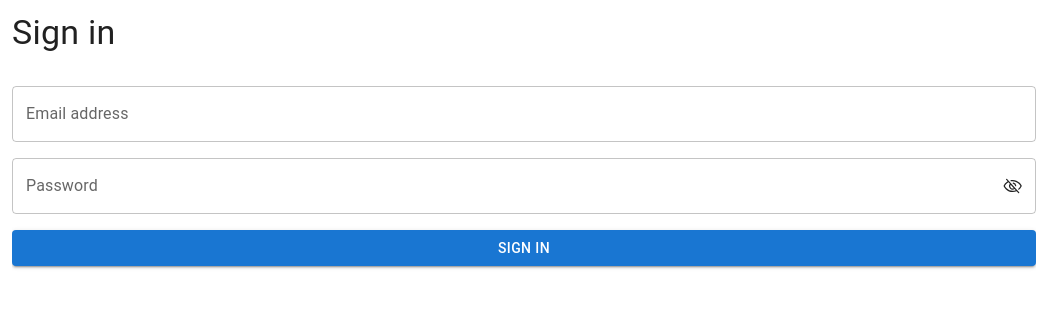
Test case: SignInForm - Critical Tests › ✅ CRITICAL: Form Validation › should show error when submitting empty password
Type "test@example.com" into the field named "email" at (524, 114), box [12,86,1036,142]
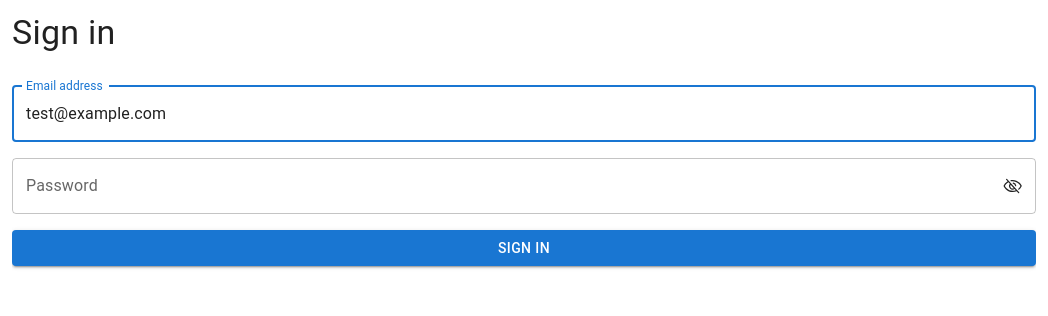
Click the button "Sign in" at (524, 248), box [12,230,1036,266]
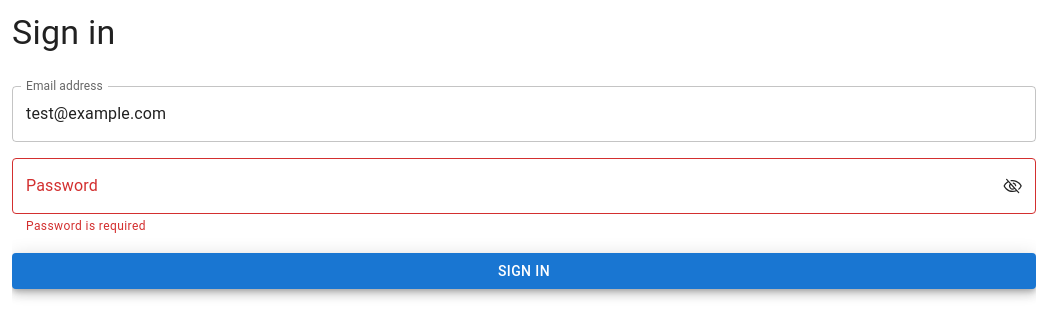
Expected: the text "Password is required" is shown, [26,219,146,233]
